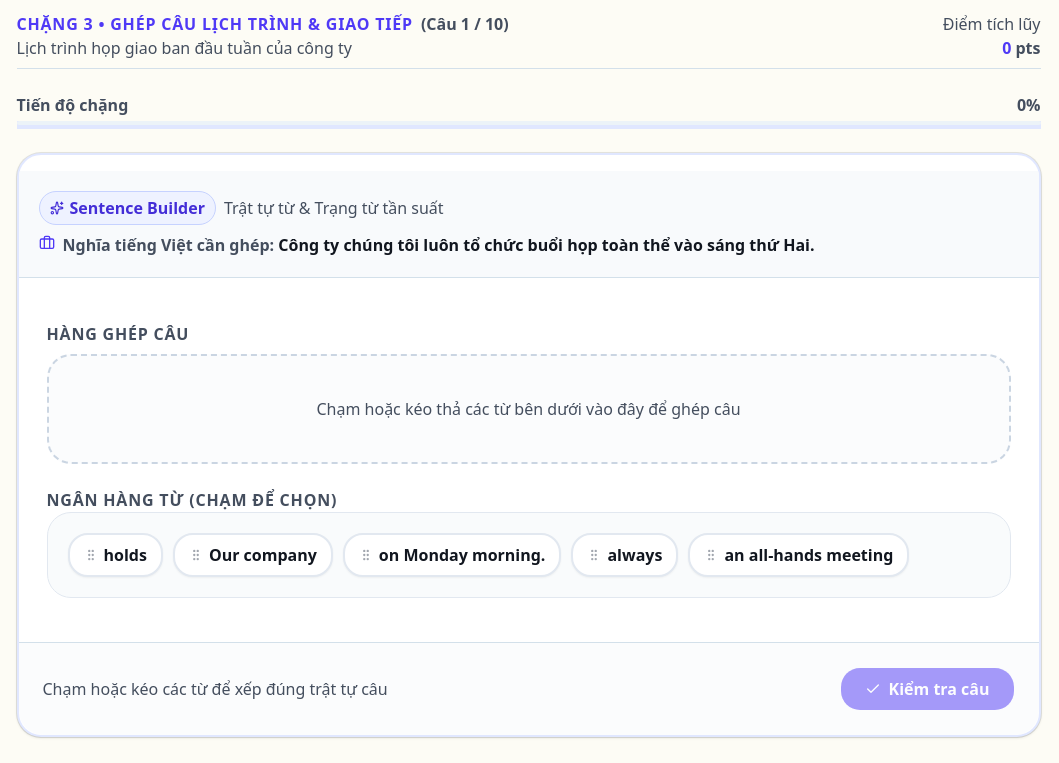
Test case: SentenceBuilderStage (Stage 3) › moves a token from the bank to the placed sentence area when tapped
The image size is (1059, 763).
# Click first token "Our company"
Click the button named "thêm \"our company\"".
click(253, 555)  # box [173,533,333,577]
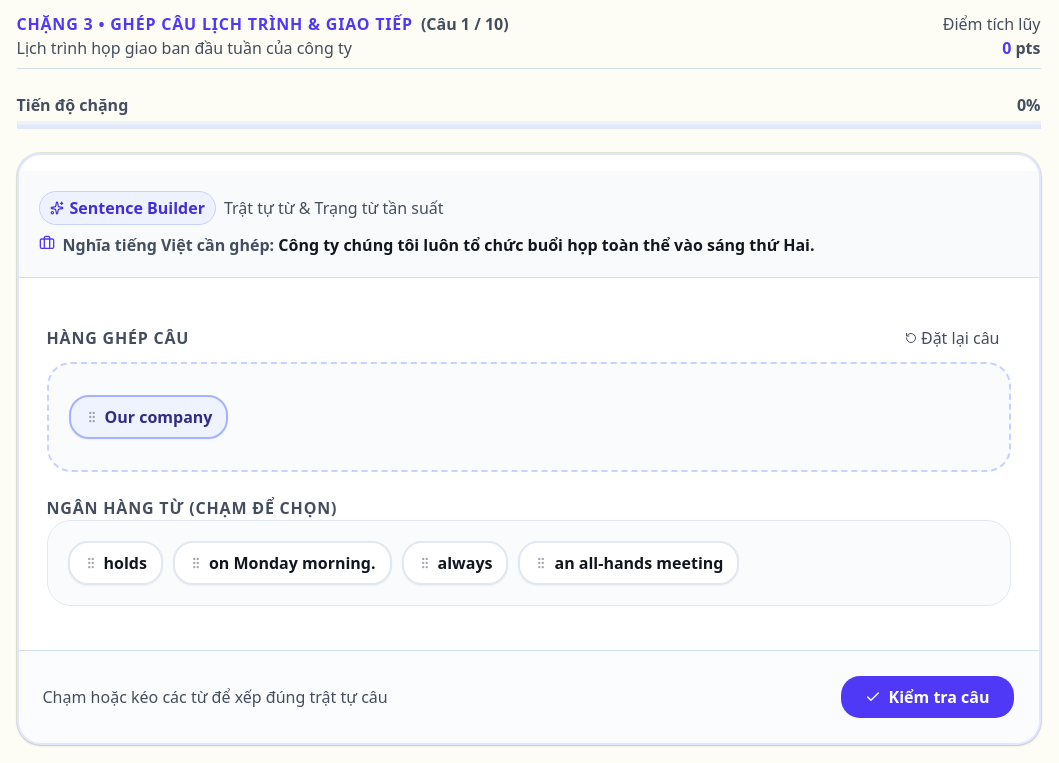
Expected: the button named "xóa \"our company\"" is shown, [68,395,228,439]
Expected: the text "Chạm hoặc kéo thả các từ bên dưới" is gone
